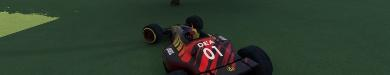Car: (141, 15, 273, 74)
grass: (0, 0, 389, 74)
